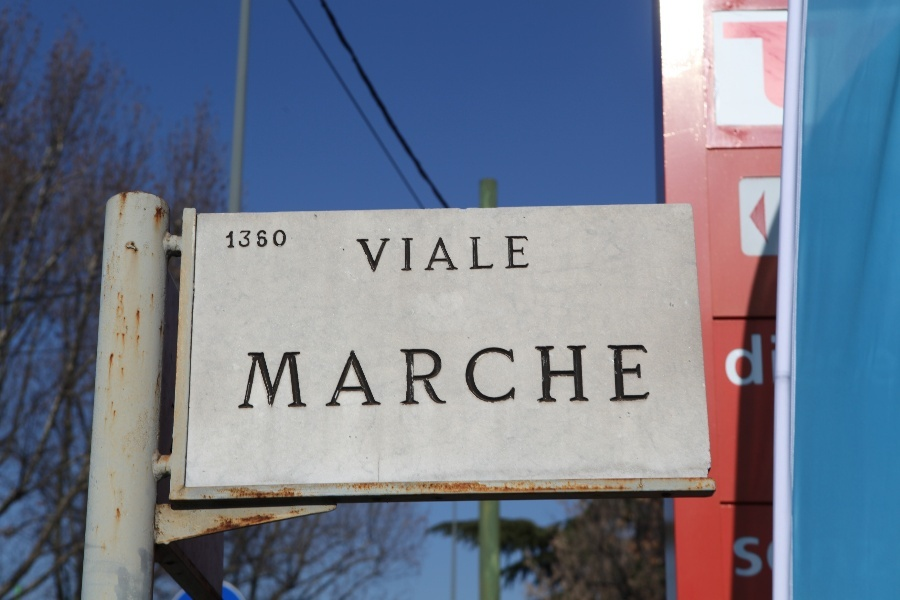text: (257, 343, 272, 411), (273, 343, 288, 411), (289, 343, 304, 411), (305, 343, 320, 411), (321, 343, 336, 411), (337, 343, 352, 411), (353, 343, 368, 411), (369, 343, 384, 411), (385, 343, 400, 411), (401, 343, 416, 411), (417, 343, 432, 411), (433, 343, 448, 411), (449, 343, 464, 411), (465, 343, 480, 411), (481, 343, 496, 411), (497, 343, 512, 411), (513, 343, 528, 411), (529, 343, 544, 411), (545, 343, 560, 411), (561, 343, 576, 411), (577, 343, 592, 411), (593, 343, 608, 411), (609, 343, 624, 411), (625, 343, 640, 411), (721, 333, 736, 389), (737, 333, 752, 389), (737, 537, 752, 579), (753, 333, 764, 389), (247, 343, 256, 411), (641, 343, 649, 411), (369, 237, 384, 273), (385, 237, 400, 273), (401, 237, 416, 273), (417, 237, 432, 273), (433, 237, 448, 273), (449, 237, 464, 273), (465, 237, 480, 273), (481, 237, 496, 273), (497, 237, 512, 273), (513, 237, 528, 273), (753, 537, 765, 579), (358, 237, 368, 273), (225, 226, 240, 249), (241, 226, 256, 249), (257, 226, 272, 249), (273, 226, 286, 249), (730, 537, 736, 579), (719, 333, 720, 389), (529, 237, 530, 273), (223, 226, 224, 249)
